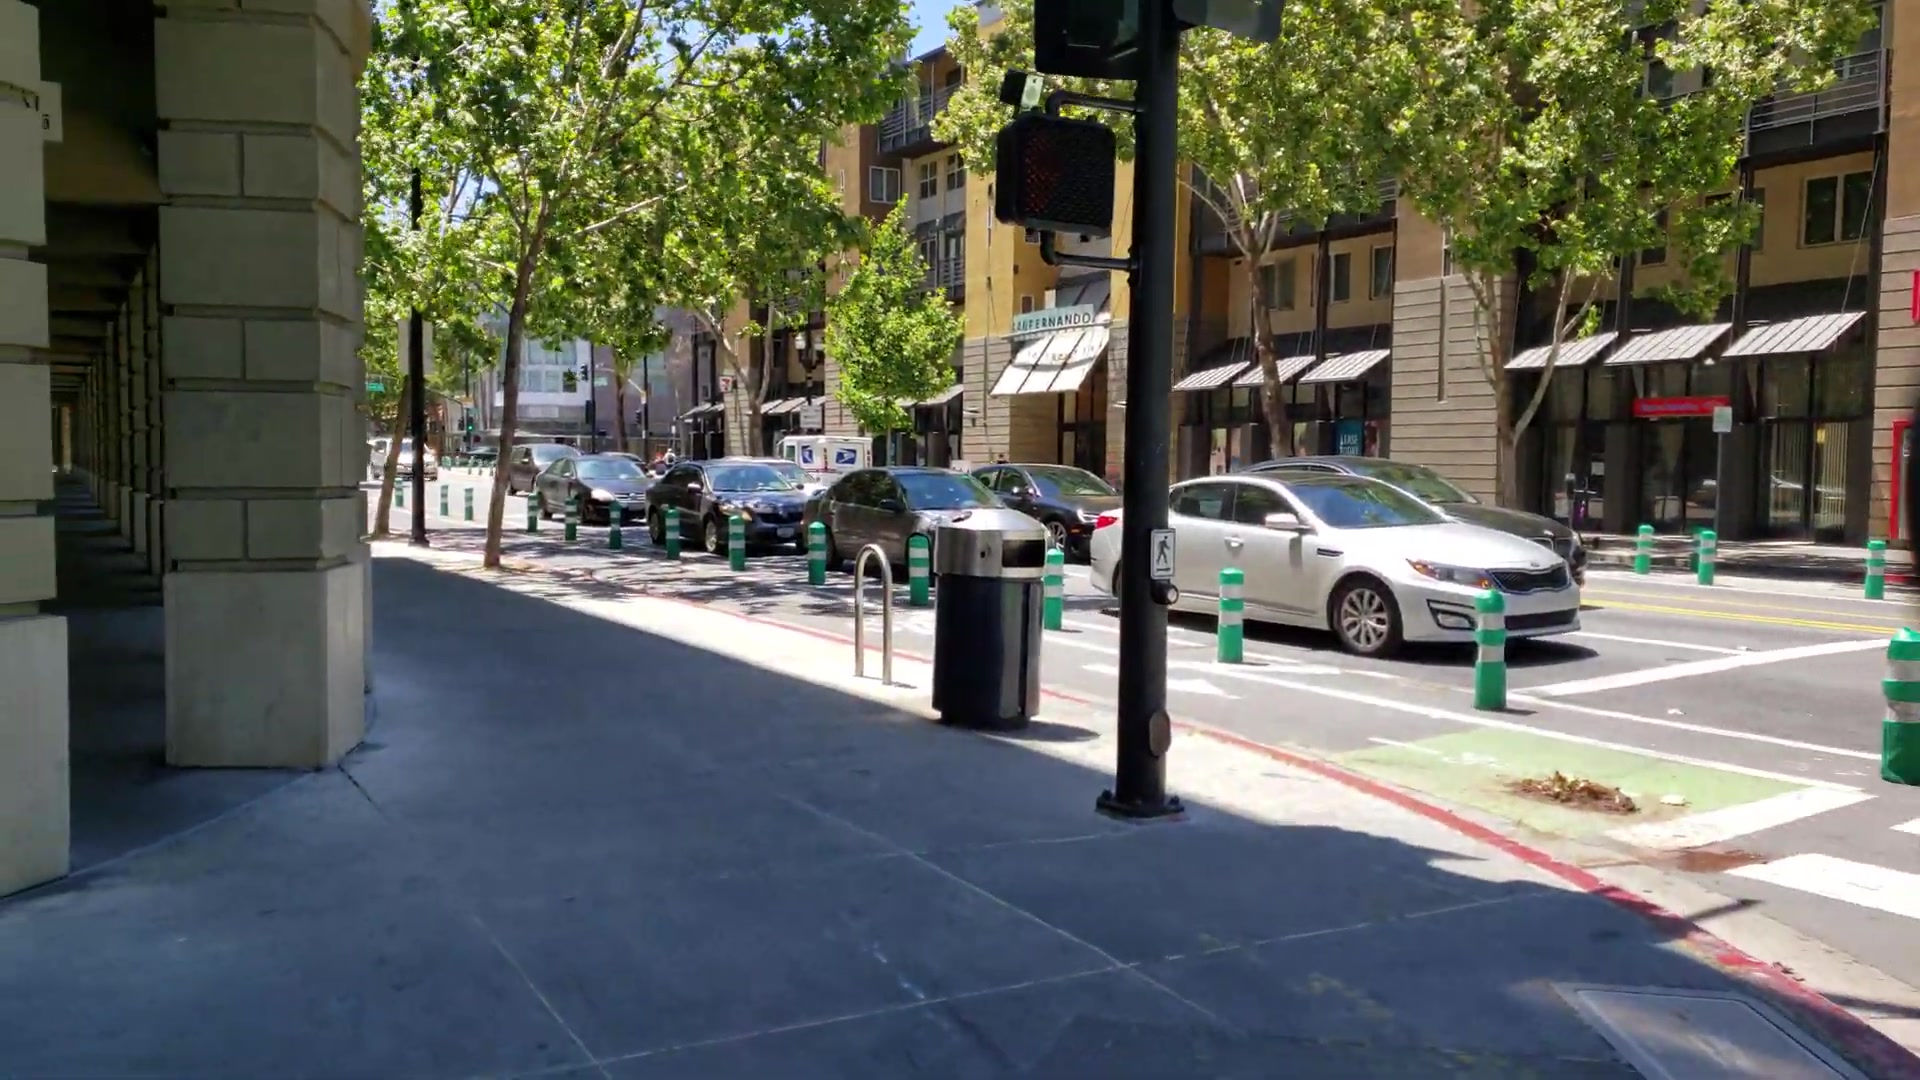vehicle: (1092, 479, 1582, 644), (646, 462, 804, 555), (534, 458, 647, 522)
